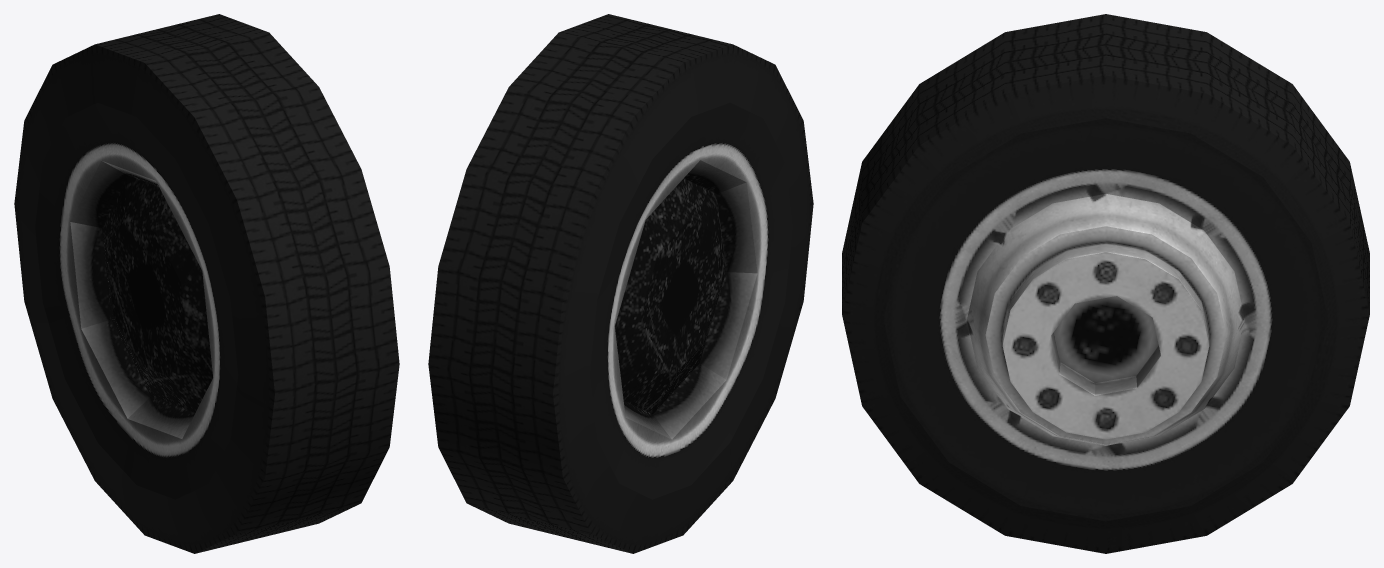
Rendered from Wheel FLFire Truck.fbx.
3 views of the same model, side by side, from view 1: azimuth 30°, elevation 25°; view 2: azimuth 150°, elevation 25°; view 3: azimuth 270°, elevation 25° (orthographic).
Visible parts, largest first — view 1: Wheel FLFire Truck; view 2: Wheel FLFire Truck; view 3: Wheel FLFire Truck.
Boxes of the visible parts, x1,y1,x2,y2 form: Wheel FLFire Truck: (14, 14, 399, 553); Wheel FLFire Truck: (428, 14, 813, 553); Wheel FLFire Truck: (842, 14, 1369, 553).
Size of the model in its own units: 37.08 by 85.59 by 85.59.
